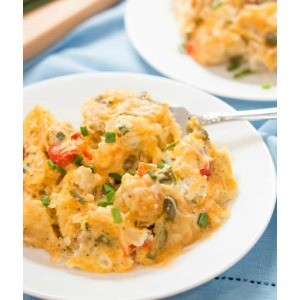egg_brain food: (57, 112, 168, 252)
